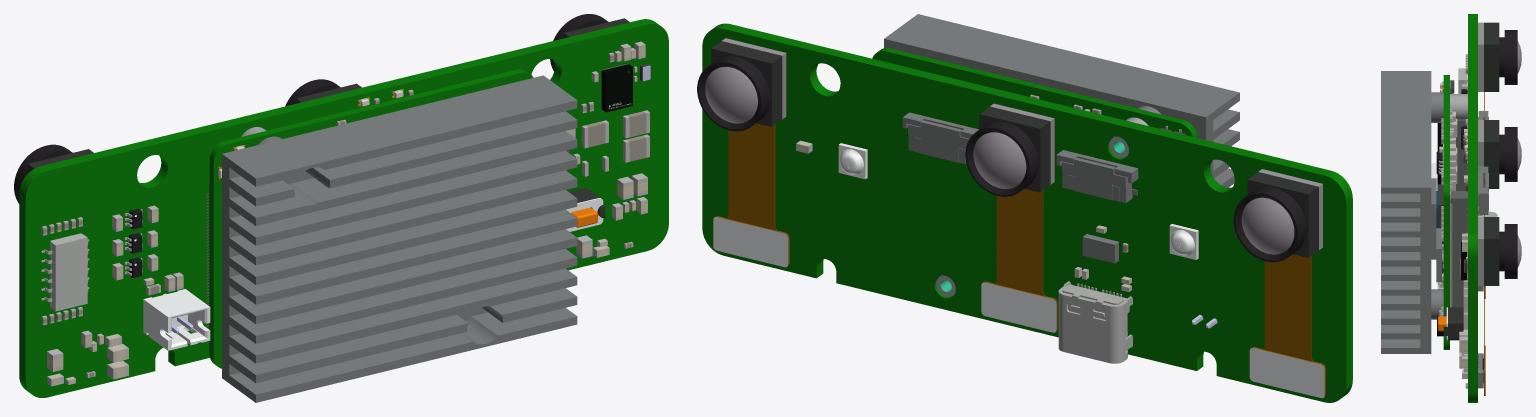
The model's file is oak-d-pro-w.glb.
3 views of the same model, side by side, from view 1: azimuth 30°, elevation 25°; view 2: azimuth 150°, elevation 25°; view 3: azimuth 270°, elevation 25° (orthographic). The views are drawn at different scales.
Visible parts, largest first — view 1: PCB; view 2: PCB; view 3: PCB.
Part boxes in pixels (x1=…): PCB: x1=14, y1=14, x2=668, y2=402; PCB: x1=697, y1=14, x2=1352, y2=402; PCB: x1=1381, y1=14, x2=1521, y2=402.
Size of the model in its own units: 0.09 by 0.0304 by 0.023.
Materials: 1 (1 with a texture image).
